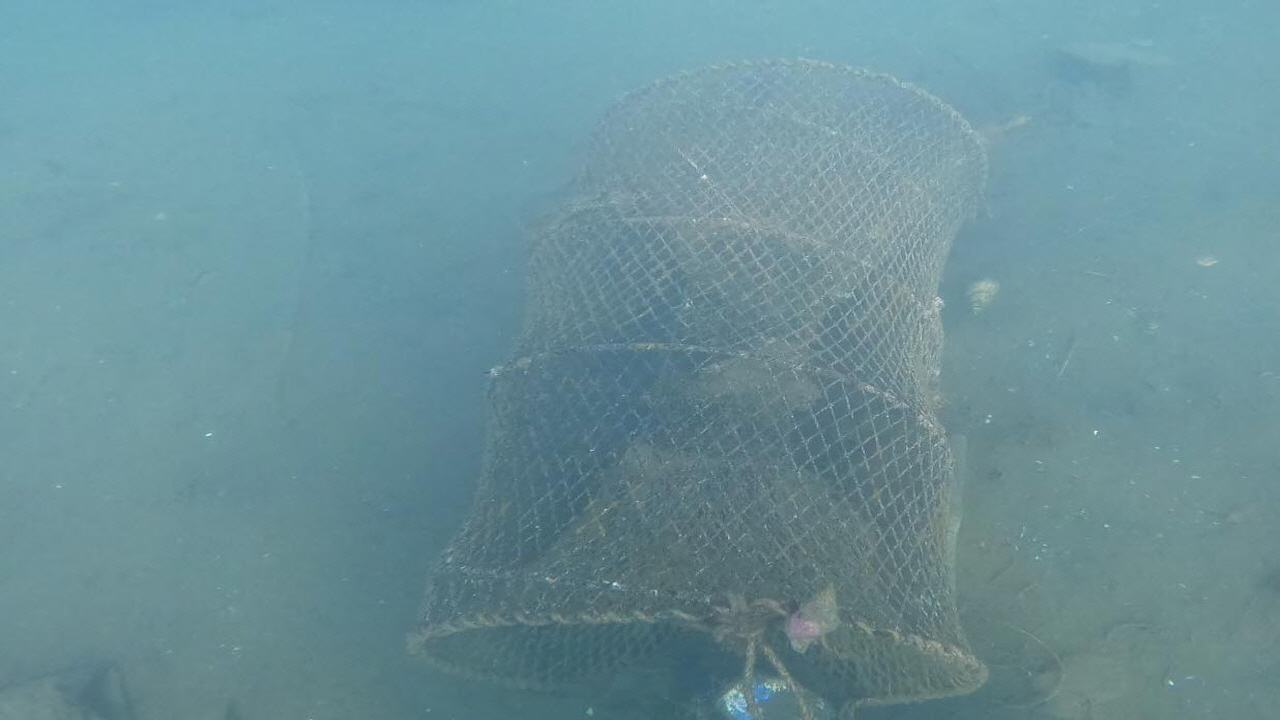spring fish trap: (398, 54, 991, 710)
